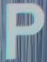Parking: (4, 1, 44, 61)
